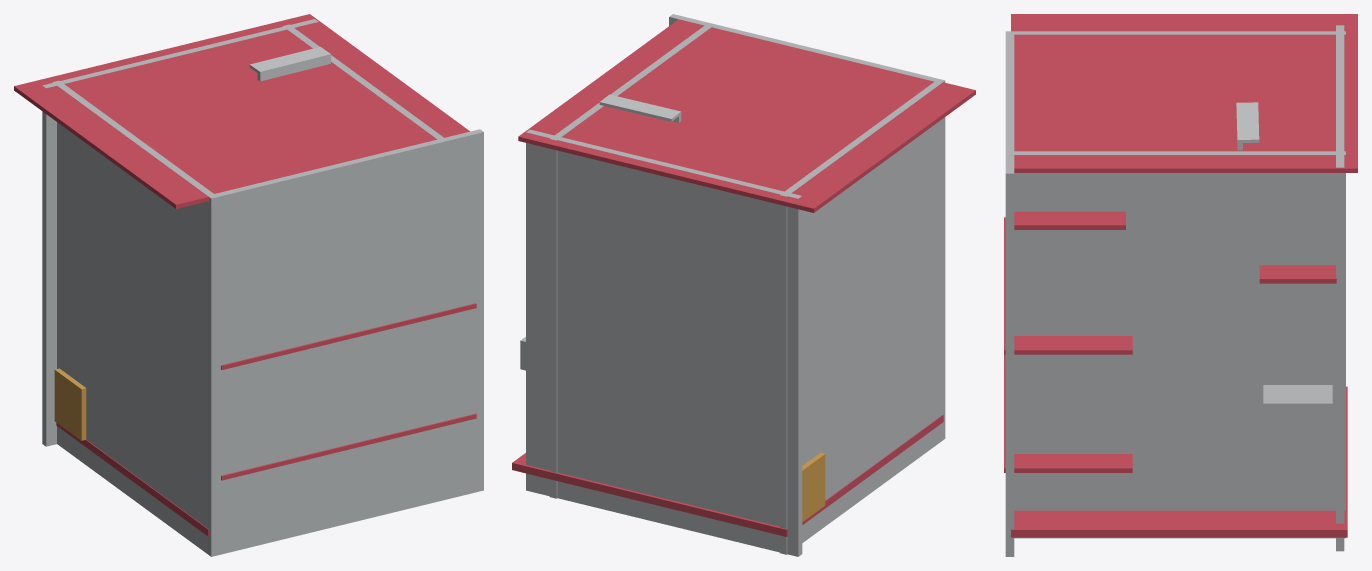
3 views of the same model, side by side, from view 1: azimuth 30°, elevation 25°; view 2: azimuth 150°, elevation 25°; view 3: azimuth 270°, elevation 25° (orthographic). The views are drawn at different scales.
Parts seen in each view (by area): view 1: Mesh_Mesh_head_geo.001_lambert2SG.001; view 2: Mesh_Mesh_head_geo.001_lambert2SG.001; view 3: Mesh_Mesh_head_geo.001_lambert2SG.001.
Part boxes in pixels (x1,y1,x2,y2): Mesh_Mesh_head_geo.001_lambert2SG.001: (14, 14, 483, 556); Mesh_Mesh_head_geo.001_lambert2SG.001: (512, 14, 975, 556); Mesh_Mesh_head_geo.001_lambert2SG.001: (1004, 14, 1357, 556).
Size of the model in its own units: 224 by 257 by 209.
